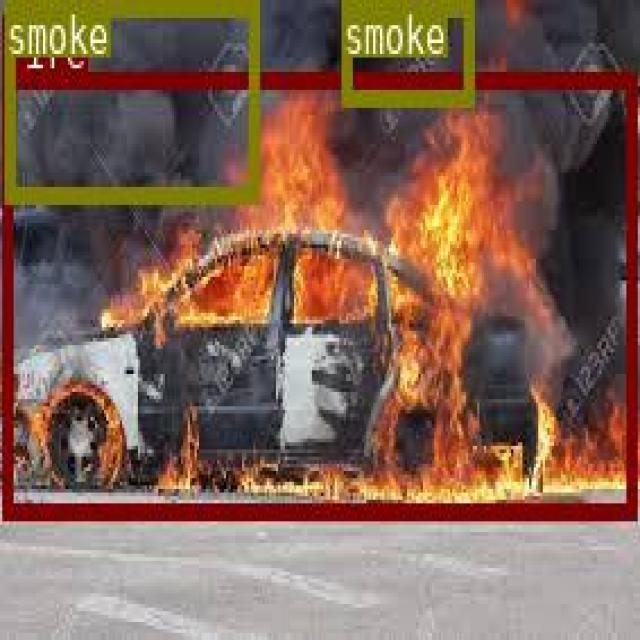fire: (1, 69, 634, 518)
smoke: (2, 0, 255, 201), (339, 0, 472, 104)
